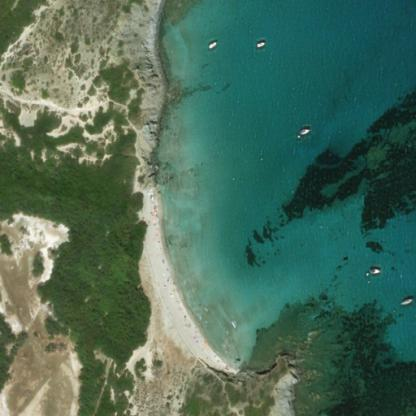ship: (399, 295, 413, 306), (365, 265, 382, 274), (298, 119, 310, 131), (253, 37, 265, 45), (206, 0, 214, 5)
